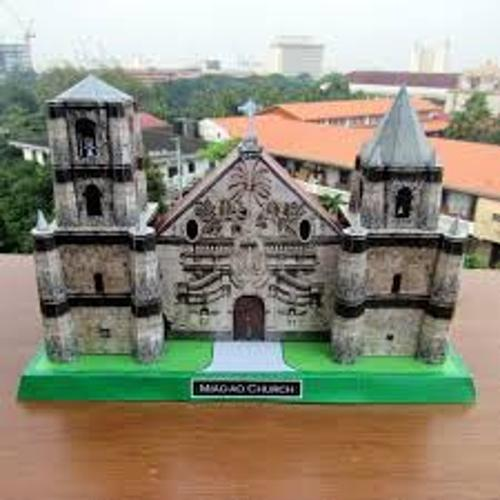Miagao Church: (21, 69, 460, 372)
